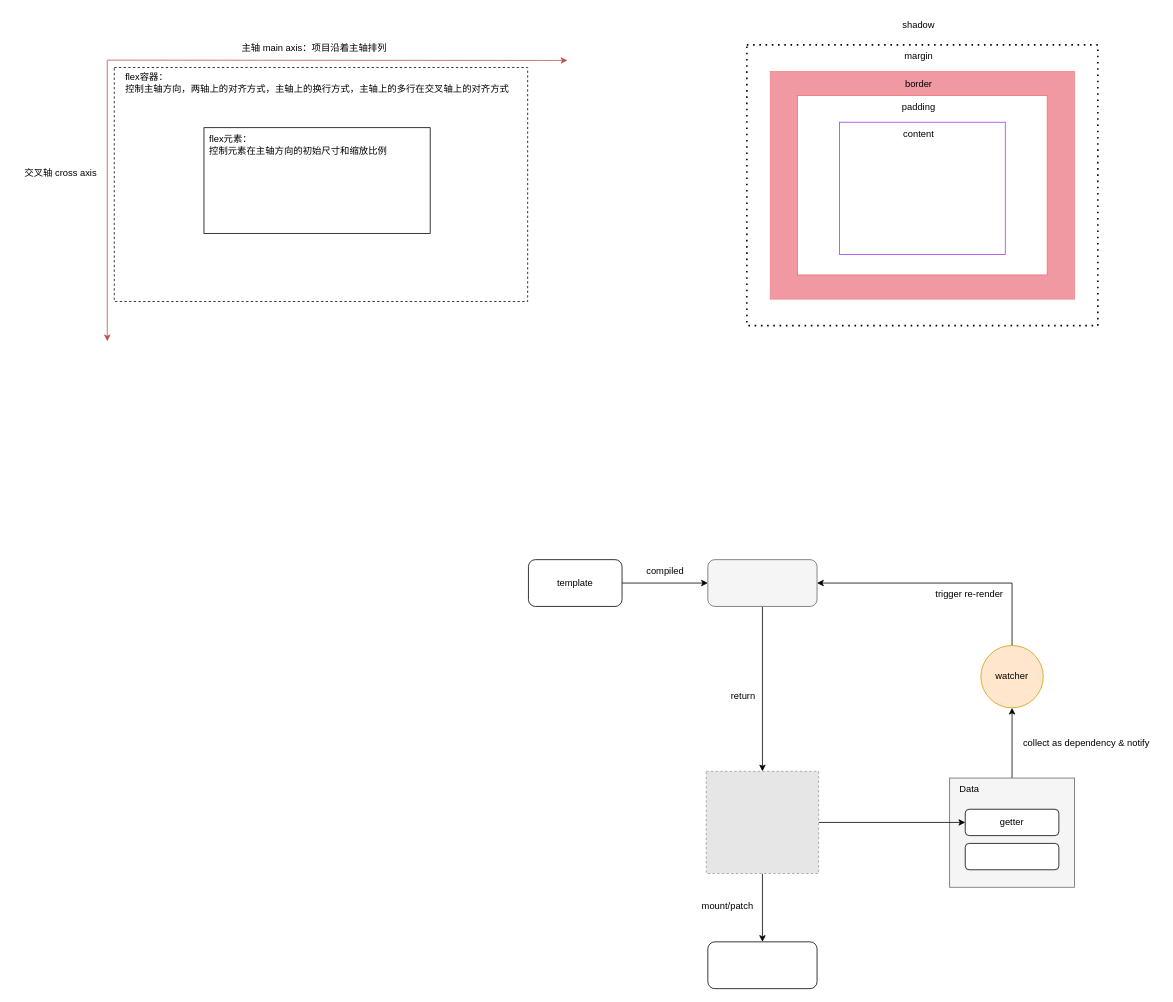
The diagram is 1173 pixels wide and 1002 high, and some of its shapes have lost their labels. Grey dashed boxes stand in for pictures. Each missing label, with the box of its shape:
render function code: (707, 559, 817, 606)
setter: (964, 843, 1059, 870)
真实DOM: (707, 941, 817, 989)
